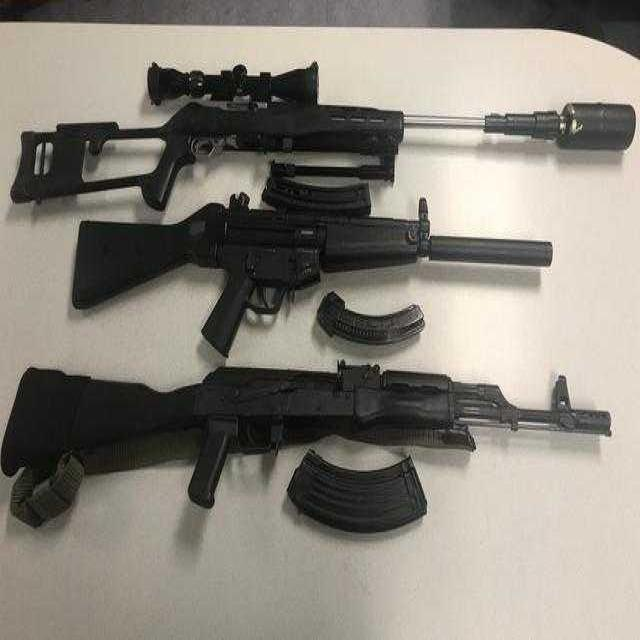heavyweapon: (1, 34, 640, 226), (1, 355, 640, 539), (26, 169, 569, 363)
